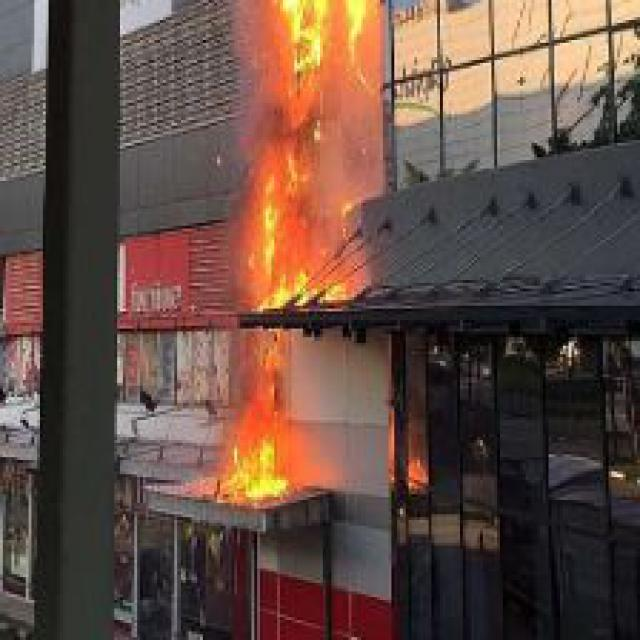fire: (234, 3, 389, 311), (211, 326, 303, 523)
